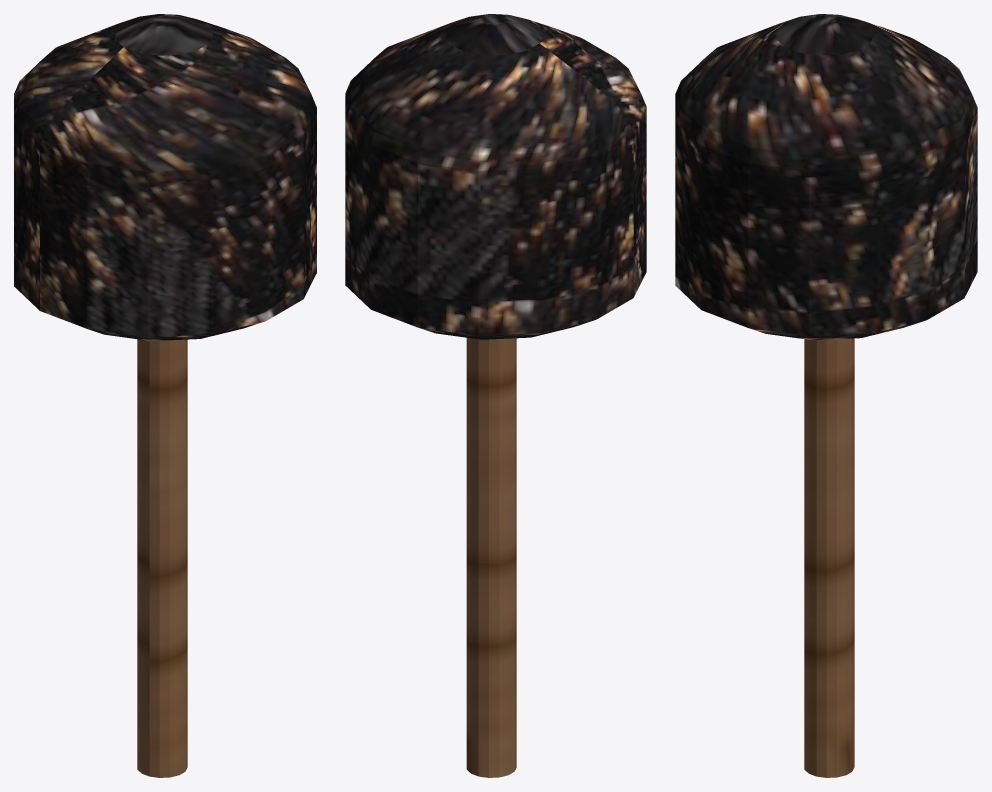
Rendered from toiletBrush.fbx.
The picture shows the model from 3 angles, left to right: view 1: azimuth 30°, elevation 25°; view 2: azimuth 150°, elevation 25°; view 3: azimuth 270°, elevation 25°; orthographic projection.
Visible parts, largest first — view 1: Cylinder.001; view 2: Cylinder.001; view 3: Cylinder.001.
Part boxes in pixels (bbox=[...]): Cylinder.001: bbox=[14, 14, 316, 777]; Cylinder.001: bbox=[345, 14, 646, 777]; Cylinder.001: bbox=[675, 14, 977, 777].
Bounding box in the file's own units: 71.05 × 193 × 70.66.
